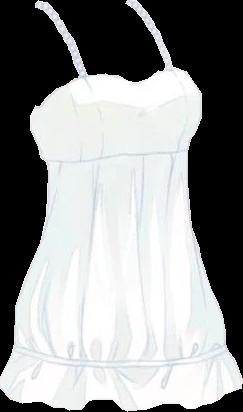Bodice: (0, 0, 242, 410)
Neckline: (42, 1, 169, 86), (13, 345, 227, 369), (44, 147, 186, 164)
Waistline: (0, 378, 242, 411)
